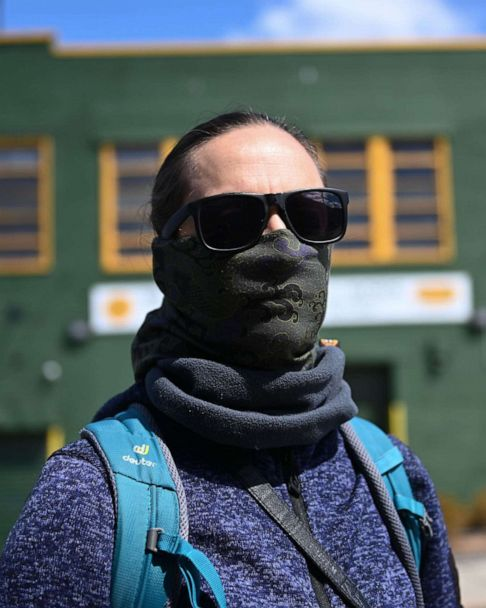with_mask: (146, 124, 359, 358)
